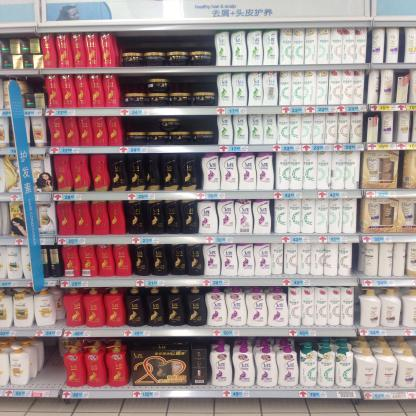Void: (123, 37, 209, 49), (42, 342, 60, 389), (175, 78, 212, 92), (191, 119, 219, 132), (122, 77, 144, 91), (128, 118, 153, 129)
